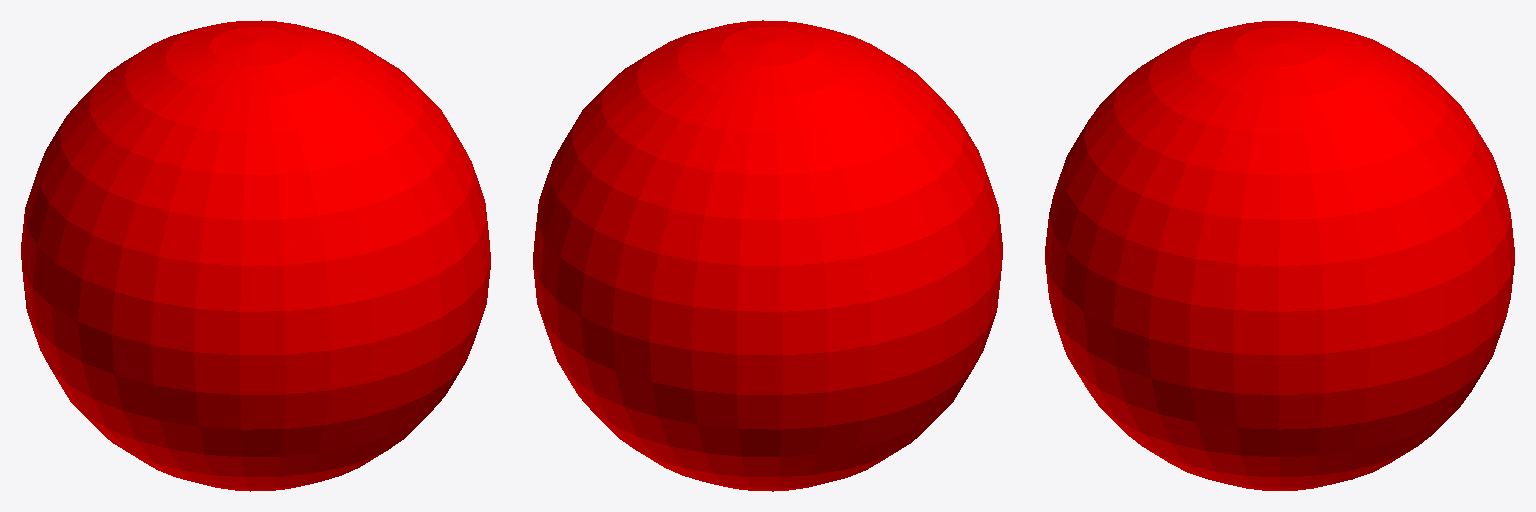
robot.urdf — kbot-v2:
<?xml version="1.0" ?>
<robot name="kbot-v2">
  <link name="floating_base_link">
    <visual name="floating_base_link_visual">
      <geometry name="floating_base_link_geometry">
        <sphere radius="0.01"/>
      </geometry>
      <material name="floating_base_link_material">
        <color rgba="1 0 0 1"/>
      </material>
      <origin xyz="0 0 0" rpy="0.00 0.00 4.71"/>
    </visual>
    <inertial name="floating_base_link_inertial">
      <mass value="0.001"/>
      <inertia ixx="0.000001" iyy="0.000001" izz="0.000002" ixy="0" ixz="0" iyz="0"/>
      <origin xyz="0 0 0" rpy="0.00 0.00 4.71"/>
    </inertial>
  </link>
  <joint name="floating_base_joint" type="fixed">
    <parent link="floating_base_link"/>
    <child link="KB_B_102B_TORSO_BOTTOM"/>
    <origin xyz="0 0 0" rpy="0.00 0.00 4.71"/>
  </joint>
  <joint name="right_shoulder_pitch_03" type="revolute">
    <origin xyz="0.120950 -0.000737 0.337507" rpy="-1.570796 0 1.570796"/>
    <parent link="KB_B_102B_TORSO_BOTTOM"/>
    <child link="YOKE_STOP_INNER"/>
    <limit effort="60" velocity="6.283" lower="-2.617994" upper="2.094395"/>
    <axis xyz="0 0 1"/>
  </joint>
  <joint name="left_shoulder_pitch_03" type="revolute">
    <origin xyz="-0.120950 -0.000737 0.337507" rpy="1.570796 0 1.570796"/>
    <parent link="KB_B_102B_TORSO_BOTTOM"/>
    <child link="YOKE_STOP_INNER_2"/>
    <limit effort="60" velocity="6.283" lower="-2.094395" upper="2.617994"/>
    <axis xyz="0 0 1"/>
  </joint>
  <joint name="right_hip_pitch_04" type="revolute">
    <origin xyz="0.056000 -0.000737 -0.072993" rpy="1.570796 0 -1.570796"/>
    <parent link="KB_B_102B_TORSO_BOTTOM"/>
    <child link="KB_D_102R_R_Hip_Yoke_Drive"/>
    <limit effort="120" velocity="6.283" lower="-1.919862" upper="1.570796"/>
    <axis xyz="0 0 1"/>
  </joint>
  <joint name="left_hip_pitch_04" type="revolute">
    <origin xyz="-0.056000 -0.000737 -0.072993" rpy="-1.570796 0 -1.570796"/>
    <parent link="KB_B_102B_TORSO_BOTTOM"/>
    <child link="KB_D_102L_L_Hip_Yoke_Drive"/>
    <limit effort="120" velocity="6.283" lower="-1.570796" upper="1.919862"/>
    <axis xyz="0 0 1"/>
  </joint>
  <joint name="right_hip_roll_03" type="revolute">
    <origin xyz="-0.028250 -0.030000 -0.071000" rpy="0 -1.570796 0"/>
    <parent link="KB_D_102R_R_Hip_Yoke_Drive"/>
    <child link="RS03_3"/>
    <limit effort="60" velocity="6.283" lower="0" upper="2.268928"/>
    <axis xyz="0 0 -1.0"/>
  </joint>
  <joint name="left_hip_roll_03" type="revolute">
    <origin xyz="-0.028250 0.030000 -0.071000" rpy="3.141593 1.570796 0"/>
    <parent link="KB_D_102L_L_Hip_Yoke_Drive"/>
    <child link="RS03_4"/>
    <limit effort="60" velocity="6.283" lower="-2.268928" upper="0"/>
    <axis xyz="0 0 -1.0"/>
  </joint>
  <joint name="imu_link" type="fixed">
    <origin xyz="-0.028807 -0.009800 0.452404" rpy="0 -1.570796 0"/>
    <parent link="KB_B_102B_TORSO_BOTTOM"/>
    <child link="imu"/>
  </joint>
  <joint name="right_shoulder_roll_03" type="revolute">
    <origin xyz="0.024250 0 -0.080000" rpy="-3.141593 -1.570796 0"/>
    <parent link="YOKE_STOP_INNER"/>
    <child link="RS03_5"/>
    <limit effort="60" velocity="6.283" lower="-0.488692" upper="1.658063"/>
    <axis xyz="0 0 -1.0"/>
  </joint>
  <joint name="left_shoulder_roll_03" type="revolute">
    <origin xyz="0.024250 0 -0.080000" rpy="0 1.570796 0"/>
    <parent link="YOKE_STOP_INNER_2"/>
    <child link="RS03_6"/>
    <limit effort="60" velocity="6.283" lower="-1.658063" upper="0.488692"/>
    <axis xyz="0 0 -1.0"/>
  </joint>
  <joint name="right_hip_yaw_03" type="revolute">
    <origin xyz="0 -0.142750 -0.029800" rpy="1.570796 0 0"/>
    <parent link="RS03_3"/>
    <child link="KB_D_301R_R_Femur_Lower_Drive"/>
    <limit effort="60" velocity="6.283" lower="-1.570796" upper="1.570796"/>
    <axis xyz="0 0 -1"/>
  </joint>
  <joint name="right_shoulder_yaw_02" type="revolute">
    <origin xyz="-0.013000 -0.142000 -0.030250" rpy="-1.570796 0 0"/>
    <parent link="RS03_5"/>
    <child link="R_Bicep_Lower_Drive"/>
    <limit effort="17" velocity="12.566" lower="-1.745329" upper="1.745329"/>
    <axis xyz="0 0 1"/>
  </joint>
  <joint name="left_hip_yaw_03" type="revolute">
    <origin xyz="0 -0.142750 -0.029800" rpy="1.570796 0 0"/>
    <parent link="RS03_4"/>
    <child link="KB_D_301L_L_Femur_Lower_Drive"/>
    <limit effort="60" velocity="6.283" lower="-1.570796" upper="1.570796"/>
    <axis xyz="0 0 -1"/>
  </joint>
  <joint name="left_shoulder_yaw_02" type="revolute">
    <origin xyz="0.013000 -0.142000 -0.030250" rpy="-1.570796 0 0"/>
    <parent link="RS03_6"/>
    <child link="L_Bicep_Lower_Drive"/>
    <limit effort="17" velocity="12.566" lower="-1.745329" upper="1.745329"/>
    <axis xyz="0 0 1"/>
  </joint>
  <joint name="right_knee_04" type="revolute">
    <origin xyz="0.020600 -0.021000 0.212000" rpy="1.570796 0 -1.570796"/>
    <parent link="KB_D_301R_R_Femur_Lower_Drive"/>
    <child link="KB_D_401R_R_Shin_Drive"/>
    <limit effort="120" velocity="6.283" lower="-2.705260" upper="0"/>
    <axis xyz="0 0 1"/>
  </joint>
  <joint name="right_elbow_02" type="revolute">
    <origin xyz="0.018500 -0.010000 -0.137000" rpy="-1.570796 0 1.570796"/>
    <parent link="R_Bicep_Lower_Drive"/>
    <child link="R_Forearm_Upper_Structural"/>
    <limit effort="17" velocity="12.566" lower="0" upper="2.530727"/>
    <axis xyz="0 0 1"/>
  </joint>
  <joint name="left_knee_04" type="revolute">
    <origin xyz="0.043200 -0.021000 0.212000" rpy="-1.570796 0 -1.570796"/>
    <parent link="KB_D_301L_L_Femur_Lower_Drive"/>
    <child link="KB_D_402L_L_Shin_Idle"/>
    <limit effort="120" velocity="6.283" lower="0" upper="2.705260"/>
    <axis xyz="0 0 1.0"/>
  </joint>
  <joint name="right_wrist_02" type="revolute">
    <origin xyz="0.017350 0.107700 0.018000" rpy="1.570796 1.570796 0"/>
    <parent link="R_Forearm_Upper_Structural"/>
    <child link="KB_C_501X_Bayonet_Adapter_Hard_Stop"/>
    <limit effort="17" velocity="12.566" lower="-1.745329" upper="1.745329"/>
    <axis xyz="0 0 1"/>
  </joint>
  <joint name="left_elbow_02" type="revolute">
    <origin xyz="-0.018500 -0.010000 -0.137000" rpy="1.570796 0 1.570796"/>
    <parent link="L_Bicep_Lower_Drive"/>
    <child link="L_Forearm_Upper_Drive"/>
    <limit effort="17" velocity="12.566" lower="-2.530727" upper="0"/>
    <axis xyz="0 0 1"/>
  </joint>
  <joint name="right_ankle_02" type="revolute">
    <origin xyz="-0.031300 0.292500 0.034000" rpy="0 0 0"/>
    <parent link="KB_D_401R_R_Shin_Drive"/>
    <child link="KB_D_501R_R_LEG_FOOT"/>
    <limit effort="17" velocity="12.566" lower="-0.296706" upper="0.785398"/>
    <axis xyz="0 0 1"/>
  </joint>
  <joint name="left_ankle_02" type="revolute">
    <origin xyz="-0.031300 -0.292500 -0.057200" rpy="0 0 0"/>
    <parent link="KB_D_402L_L_Shin_Idle"/>
    <child link="KB_D_501L_L_LEG_FOOT"/>
    <limit effort="17" velocity="12.566" lower="-0.785398" upper="0.296706"/>
    <axis xyz="0 0 1.0"/>
  </joint>
  <joint name="left_wrist_02" type="revolute">
    <origin xyz="0.017350 -0.106500 0.018000" rpy="1.570796 -1.570796 0"/>
    <parent link="L_Forearm_Upper_Drive"/>
    <child link="KB_C_501X_Bayonet_Adapter_Hard_Stop_2"/>
    <limit effort="17" velocity="12.566" lower="-1.745329" upper="1.745329"/>
    <axis xyz="0 0 -1"/>
  </joint>
  <link name="KB_B_102B_TORSO_BOTTOM">
    <visual name="KB_B_102B_TORSO_BOTTOM_visual">
      <origin xyz="0 0 0" rpy="0 0 0"/>
      <geometry name="KB_B_102B_TORSO_BOTTOM_geometry">
        <mesh filename="meshes/KB_B_102B_TORSO_BOTTOM.stl"/>
      </geometry>
      <material name="KB_B_102B_TORSO_BOTTOM_material">
        <color rgba="0.615686 0.811765 0.929412 1"/>
      </material>
    </visual>
    <inertial name="KB_B_102B_TORSO_BOTTOM_inertial">
      <mass value="15.673149"/>
      <inertia ixx="0.641650" iyy="0.678247" izz="0.075462" ixy="-0.000140" ixz="-0.001514" iyz="-0.014715"/>
      <origin xyz="0.000403 0.002187 0.165184" rpy="0 0 0"/>
    </inertial>
  </link>
  <link name="YOKE_STOP_INNER">
    <visual name="YOKE_STOP_INNER_visual">
      <origin xyz="0 0 0" rpy="0 0 0"/>
      <geometry name="YOKE_STOP_INNER_geometry">
        <mesh filename="meshes/YOKE_STOP_INNER.stl"/>
      </geometry>
      <material name="YOKE_STOP_INNER_material">
        <color rgba="0.231373 0.380392 0.705882 1"/>
      </material>
    </visual>
    <inertial name="YOKE_STOP_INNER_inertial">
      <mass value="0.585630"/>
      <inertia ixx="0.001005" iyy="0.001376" izz="0.001140" ixy="-0.000021" ixz="0.000099" iyz="0.000039"/>
      <origin xyz="0.006667 -0.003840 -0.041983" rpy="0 0 0"/>
    </inertial>
  </link>
  <link name="YOKE_STOP_INNER_2">
    <visual name="YOKE_STOP_INNER_visual_2">
      <origin xyz="0 0 0" rpy="0 0 0"/>
      <geometry name="YOKE_STOP_INNER_geometry_2">
        <mesh filename="meshes/YOKE_STOP_INNER_2.stl"/>
      </geometry>
      <material name="YOKE_STOP_INNER_material_2">
        <color rgba="0.231373 0.380392 0.705882 1"/>
      </material>
    </visual>
    <inertial name="YOKE_STOP_INNER_inertial_2">
      <mass value="0.585652"/>
      <inertia ixx="0.001005" iyy="0.001370" izz="0.001134" ixy="0.000021" ixz="0.000101" iyz="-0.000039"/>
      <origin xyz="0.006762 0.003839 -0.041982" rpy="0 0 0"/>
    </inertial>
  </link>
  <link name="KB_D_102R_R_Hip_Yoke_Drive">
    <visual name="KB_D_102R_R_Hip_Yoke_Drive_visual">
      <origin xyz="0 0 0" rpy="0 0 0"/>
      <geometry name="KB_D_102R_R_Hip_Yoke_Drive_geometry">
        <mesh filename="meshes/KB_D_102R_R_Hip_Yoke_Drive.stl"/>
      </geometry>
      <material name="KB_D_102R_R_Hip_Yoke_Drive_material">
        <color rgba="0.262745 0.282353 0.301961 1"/>
      </material>
    </visual>
    <inertial name="KB_D_102R_R_Hip_Yoke_Drive_inertial">
      <mass value="0.710534"/>
      <inertia ixx="0.001285" iyy="0.001550" izz="0.001729" ixy="-0.000087" ixz="-0.000094" iyz="-0.000252"/>
      <origin xyz="-0.005187 -0.002374 -0.039157" rpy="0 0 0"/>
    </inertial>
  </link>
  <link name="KB_D_102L_L_Hip_Yoke_Drive">
    <visual name="KB_D_102L_L_Hip_Yoke_Drive_visual">
      <origin xyz="0 0 0" rpy="0 0 0"/>
      <geometry name="KB_D_102L_L_Hip_Yoke_Drive_geometry">
        <mesh filename="meshes/KB_D_102L_L_Hip_Yoke_Drive.stl"/>
      </geometry>
      <material name="KB_D_102L_L_Hip_Yoke_Drive_material">
        <color rgba="0.262745 0.282353 0.301961 1"/>
      </material>
    </visual>
    <inertial name="KB_D_102L_L_Hip_Yoke_Drive_inertial">
      <mass value="0.710534"/>
      <inertia ixx="0.001287" iyy="0.001544" izz="0.001726" ixy="0.000087" ixz="-0.000096" iyz="0.000253"/>
      <origin xyz="-0.005269 0.002433 -0.039157" rpy="0 0 0"/>
    </inertial>
  </link>
  <link name="RS03_3">
    <visual name="RS03_visual_3">
      <origin xyz="0 0 0" rpy="0 0 0"/>
      <geometry name="RS03_geometry_3">
        <mesh filename="meshes/RS03_3.stl"/>
      </geometry>
      <material name="RS03_material_3">
        <color rgba="0.615686 0.811765 0.929412 1"/>
      </material>
    </visual>
    <inertial name="RS03_inertial_3">
      <mass value="2.590316"/>
      <inertia ixx="0.011063" iyy="0.003804" izz="0.011580" ixy="-0.000058" ixz="0.000001" iyz="-0.000098"/>
      <origin xyz="-0.000677 -0.058256 -0.028289" rpy="0 0 0"/>
    </inertial>
  </link>
  <link name="RS03_4">
    <visual name="RS03_visual_4">
      <origin xyz="0 0 0" rpy="0 0 0"/>
      <geometry name="RS03_geometry_4">
        <mesh filename="meshes/RS03_4.stl"/>
      </geometry>
      <material name="RS03_material_4">
        <color rgba="0.615686 0.811765 0.929412 1"/>
      </material>
    </visual>
    <inertial name="RS03_inertial_4">
      <mass value="2.590429"/>
      <inertia ixx="0.011064" iyy="0.003804" izz="0.011580" ixy="0.000058" ixz="0" iyz="-0.000098"/>
      <origin xyz="0.000677 -0.058257 -0.028289" rpy="0 0 0"/>
    </inertial>
  </link>
  <link name="imu">
    <visual name="imu_visual">
      <origin xyz="0 0 0" rpy="0 0 0"/>
      <geometry name="imu_geometry">
        <mesh filename="meshes/imu.stl"/>
      </geometry>
      <material name="imu_material">
        <color rgba="0.615686 0.811765 0.929412 1"/>
      </material>
    </visual>
    <inertial name="imu_inertial">
      <mass value="0.005700"/>
      <inertia ixx="0.000001" iyy="0.000001" izz="0.000002" ixy="0" ixz="0" iyz="0"/>
      <origin xyz="0.012000 -0.014737 0.003000" rpy="0 0 0"/>
    </inertial>
  </link>
  <link name="RS03_5">
    <visual name="RS03_visual_5">
      <origin xyz="0 0 0" rpy="0 0 0"/>
      <geometry name="RS03_geometry_5">
        <mesh filename="meshes/RS03_5.stl"/>
      </geometry>
      <material name="RS03_material_5">
        <color rgba="0.615686 0.811765 0.929412 1"/>
      </material>
    </visual>
    <inertial name="RS03_inertial_5">
      <mass value="1.888573"/>
      <inertia ixx="0.007759" iyy="0.002169" izz="0.008277" ixy="-0.000685" ixz="-0.000014" iyz="-0.000022"/>
      <origin xyz="-0.005670 -0.043712 -0.030222" rpy="0 0 0"/>
    </inertial>
  </link>
  <link name="RS03_6">
    <visual name="RS03_visual_6">
      <origin xyz="0 0 0" rpy="0 0 0"/>
      <geometry name="RS03_geometry_6">
        <mesh filename="meshes/RS03_6.stl"/>
      </geometry>
      <material name="RS03_material_6">
        <color rgba="0.615686 0.811765 0.929412 1"/>
      </material>
    </visual>
    <inertial name="RS03_inertial_6">
      <mass value="1.888599"/>
      <inertia ixx="0.007765" iyy="0.002169" izz="0.008283" ixy="0.000686" ixz="0.000014" iyz="-0.000022"/>
      <origin xyz="0.005670 -0.043728 -0.030222" rpy="0 0 0"/>
    </inertial>
  </link>
  <link name="KB_D_301R_R_Femur_Lower_Drive">
    <visual name="KB_D_301R_R_Femur_Lower_Drive_visual">
      <origin xyz="0 0 0" rpy="0 0 0"/>
      <geometry name="KB_D_301R_R_Femur_Lower_Drive_geometry">
        <mesh filename="meshes/KB_D_301R_R_Femur_Lower_Drive.stl"/>
      </geometry>
      <material name="KB_D_301R_R_Femur_Lower_Drive_material">
        <color rgba="0.439216 0.474510 0.501961 1"/>
      </material>
    </visual>
    <inertial name="KB_D_301R_R_Femur_Lower_Drive_inertial">
      <mass value="2.556834"/>
      <inertia ixx="0.018026" iyy="0.016368" izz="0.004729" ixy="-0.000235" ixz="0.001247" iyz="0.001844"/>
      <origin xyz="0.000139 -0.010511 0.162474" rpy="0 0 0"/>
    </inertial>
  </link>
  <link name="R_Bicep_Lower_Drive">
    <visual name="R_Bicep_Lower_Drive_visual">
      <origin xyz="0 0 0" rpy="0 0 0"/>
      <geometry name="R_Bicep_Lower_Drive_geometry">
        <mesh filename="meshes/R_Bicep_Lower_Drive.stl"/>
      </geometry>
      <material name="R_Bicep_Lower_Drive_material">
        <color rgba="0.764706 0.545098 0.803922 1"/>
      </material>
    </visual>
    <inertial name="R_Bicep_Lower_Drive_inertial">
      <mass value="0.863923"/>
      <inertia ixx="0.003004" iyy="0.002789" izz="0.000894" ixy="-0.000019" ixz="-0.000191" iyz="-0.000163"/>
      <origin xyz="0.001741 -0.003128 -0.096105" rpy="0 0 0"/>
    </inertial>
  </link>
  <link name="KB_D_301L_L_Femur_Lower_Drive">
    <visual name="KB_D_301L_L_Femur_Lower_Drive_visual">
      <origin xyz="0 0 0" rpy="0 0 0"/>
      <geometry name="KB_D_301L_L_Femur_Lower_Drive_geometry">
        <mesh filename="meshes/KB_D_301L_L_Femur_Lower_Drive.stl"/>
      </geometry>
      <material name="KB_D_301L_L_Femur_Lower_Drive_material">
        <color rgba="0.439216 0.474510 0.501961 1"/>
      </material>
    </visual>
    <inertial name="KB_D_301L_L_Femur_Lower_Drive_inertial">
      <mass value="2.556767"/>
      <inertia ixx="0.018025" iyy="0.016367" izz="0.004728" ixy="0.000234" ixz="-0.001247" iyz="0.001844"/>
      <origin xyz="-0.000139 -0.010511 0.162476" rpy="0 0 0"/>
    </inertial>
  </link>
  <link name="L_Bicep_Lower_Drive">
    <visual name="L_Bicep_Lower_Drive_visual">
      <origin xyz="0 0 0" rpy="0 0 0"/>
      <geometry name="L_Bicep_Lower_Drive_geometry">
        <mesh filename="meshes/L_Bicep_Lower_Drive.stl"/>
      </geometry>
      <material name="L_Bicep_Lower_Drive_material">
        <color rgba="0.764706 0.545098 0.803922 1"/>
      </material>
    </visual>
    <inertial name="L_Bicep_Lower_Drive_inertial">
      <mass value="0.864297"/>
      <inertia ixx="0.003004" iyy="0.002790" izz="0.000895" ixy="0.000019" ixz="0.000190" iyz="-0.000163"/>
      <origin xyz="-0.001724 -0.003123 -0.096088" rpy="0 0 0"/>
    </inertial>
  </link>
  <link name="KB_D_401R_R_Shin_Drive">
    <visual name="KB_D_401R_R_Shin_Drive_visual">
      <origin xyz="0 0 0" rpy="0 0 0"/>
      <geometry name="KB_D_401R_R_Shin_Drive_geometry">
        <mesh filename="meshes/KB_D_401R_R_Shin_Drive.stl"/>
      </geometry>
      <material name="KB_D_401R_R_Shin_Drive_material">
        <color rgba="0.349020 0.376471 0.400000 1"/>
      </material>
    </visual>
    <inertial name="KB_D_401R_R_Shin_Drive_inertial">
      <mass value="2.016717"/>
      <inertia ixx="0.017602" iyy="0.003759" izz="0.017275" ixy="0.000538" ixz="-0.000046" iyz="-0.000380"/>
      <origin xyz="-0.026847 0.095560 0.020795" rpy="0 0 0"/>
    </inertial>
  </link>
  <link name="R_Forearm_Upper_Structural">
    <visual name="R_Forearm_Upper_Structural_visual">
      <origin xyz="0 0 0" rpy="0 0 0"/>
      <geometry name="R_Forearm_Upper_Structural_geometry">
        <mesh filename="meshes/R_Forearm_Upper_Structural.stl"/>
      </geometry>
      <material name="R_Forearm_Upper_Structural_material">
        <color rgba="0.615686 0.811765 0.929412 1"/>
      </material>
    </visual>
    <inertial name="R_Forearm_Upper_Structural_inertial">
      <mass value="0.676940"/>
      <inertia ixx="0.001393" iyy="0.000690" izz="0.001383" ixy="-0.000048" ixz="-0.000016" iyz="-0.000074"/>
      <origin xyz="0.016090 0.059049 0.014470" rpy="0 0 0"/>
    </inertial>
  </link>
  <link name="KB_D_402L_L_Shin_Idle">
    <visual name="KB_D_402L_L_Shin_Idle_visual">
      <origin xyz="0 0 0" rpy="0 0 0"/>
      <geometry name="KB_D_402L_L_Shin_Idle_geometry">
        <mesh filename="meshes/KB_D_402L_L_Shin_Idle.stl"/>
      </geometry>
      <material name="KB_D_402L_L_Shin_Idle_material">
        <color rgba="0.349020 0.376471 0.400000 1"/>
      </material>
    </visual>
    <inertial name="KB_D_402L_L_Shin_Idle_inertial">
      <mass value="2.016574"/>
      <inertia ixx="0.017575" iyy="0.003732" izz="0.017275" ixy="-0.000538" ixz="-0.000046" iyz="0.000373"/>
      <origin xyz="-0.026848 -0.095563 -0.042713" rpy="0 0 0"/>
    </inertial>
  </link>
  <link name="KB_C_501X_Bayonet_Adapter_Hard_Stop">
    <visual name="KB_C_501X_Bayonet_Adapter_Hard_Stop_visual">
      <origin xyz="0 0 0" rpy="0 0 0"/>
      <geometry name="KB_C_501X_Bayonet_Adapter_Hard_Stop_geometry">
        <mesh filename="meshes/KB_C_501X_Bayonet_Adapter_Hard_Stop.stl"/>
      </geometry>
      <material name="KB_C_501X_Bayonet_Adapter_Hard_Stop_material">
        <color rgba="0.917647 0.917647 0.917647 1"/>
      </material>
    </visual>
    <inertial name="KB_C_501X_Bayonet_Adapter_Hard_Stop_inertial">
      <mass value="0.571799"/>
      <inertia ixx="0.000750" iyy="0.000720" izz="0.000581" ixy="0" ixz="-0.000012" iyz="0"/>
      <origin xyz="-0.002571 0.000004 -0.039371" rpy="0 0 0"/>
    </inertial>
  </link>
  <link name="L_Forearm_Upper_Drive">
    <visual name="L_Forearm_Upper_Drive_visual">
      <origin xyz="0 0 0" rpy="0 0 0"/>
      <geometry name="L_Forearm_Upper_Drive_geometry">
        <mesh filename="meshes/L_Forearm_Upper_Drive.stl"/>
      </geometry>
      <material name="L_Forearm_Upper_Drive_material">
        <color rgba="0.615686 0.811765 0.929412 1"/>
      </material>
    </visual>
    <inertial name="L_Forearm_Upper_Drive_inertial">
      <mass value="0.676937"/>
      <inertia ixx="0.001393" iyy="0.000690" izz="0.001383" ixy="0.000048" ixz="-0.000016" iyz="0.000074"/>
      <origin xyz="0.016089 -0.059049 0.014469" rpy="0 0 0"/>
    </inertial>
  </link>
  <link name="KB_D_501R_R_LEG_FOOT">
    <visual name="KB_D_501R_R_LEG_FOOT_visual">
      <origin xyz="0 0 0" rpy="0 0 0"/>
      <geometry name="KB_D_501R_R_LEG_FOOT_geometry">
        <mesh filename="meshes/KB_D_501R_R_LEG_FOOT.stl"/>
      </geometry>
      <material name="KB_D_501R_R_LEG_FOOT_material">
        <color rgba="0.972549 0.529412 0.003922 1"/>
      </material>
    </visual>
    <collision name="KB_D_501R_R_LEG_FOOT.collision">
      <origin xyz="0 0 0" rpy="0 0 0"/>
      <geometry name="KB_D_501R_R_LEG_FOOT_collision_geometry">
        <mesh filename="meshes/KB_D_501R_R_LEG_FOOT.collision.stl"/>
      </geometry>
    </collision>
    <inertial name="KB_D_501R_R_LEG_FOOT_inertial">
      <mass value="0.492747"/>
      <inertia ixx="0.000283" iyy="0.001560" izz="0.001485" ixy="0.000085" ixz="0.000021" iyz="-0.000018"/>
      <origin xyz="-0.013265 0.028578 -0.016056" rpy="0 0 0"/>
    </inertial>
  </link>
  <link name="KB_D_501L_L_LEG_FOOT">
    <visual name="KB_D_501L_L_LEG_FOOT_visual">
      <origin xyz="0 0 0" rpy="0 0 0"/>
      <geometry name="KB_D_501L_L_LEG_FOOT_geometry">
        <mesh filename="meshes/KB_D_501L_L_LEG_FOOT.stl"/>
      </geometry>
      <material name="KB_D_501L_L_LEG_FOOT_material">
        <color rgba="0.972549 0.529412 0.003922 1"/>
      </material>
    </visual>
    <collision name="KB_D_501L_L_LEG_FOOT.collision">
      <origin xyz="0 0 0" rpy="0 0 0"/>
      <geometry name="KB_D_501L_L_LEG_FOOT_collision_geometry">
        <mesh filename="meshes/KB_D_501L_L_LEG_FOOT.collision.stl"/>
      </geometry>
    </collision>
    <inertial name="KB_D_501L_L_LEG_FOOT_inertial">
      <mass value="0.492748"/>
      <inertia ixx="0.000283" iyy="0.001560" izz="0.001485" ixy="-0.000085" ixz="0.000021" iyz="0.000018"/>
      <origin xyz="-0.013265 -0.028578 0.011944" rpy="0 0 0"/>
    </inertial>
  </link>
  <link name="KB_C_501X_Bayonet_Adapter_Hard_Stop_2">
    <visual name="KB_C_501X_Bayonet_Adapter_Hard_Stop_visual_2">
      <origin xyz="0 0 0" rpy="0 0 0"/>
      <geometry name="KB_C_501X_Bayonet_Adapter_Hard_Stop_geometry_2">
        <mesh filename="meshes/KB_C_501X_Bayonet_Adapter_Hard_Stop_2.stl"/>
      </geometry>
      <material name="KB_C_501X_Bayonet_Adapter_Hard_Stop_material_2">
        <color rgba="0.917647 0.917647 0.917647 1"/>
      </material>
    </visual>
    <inertial name="KB_C_501X_Bayonet_Adapter_Hard_Stop_inertial_2">
      <mass value="0.571799"/>
      <inertia ixx="0.000750" iyy="0.000720" izz="0.000581" ixy="0" ixz="-0.000012" iyz="0"/>
      <origin xyz="0.002571 0.000004 0.040871" rpy="0 0 0"/>
    </inertial>
  </link>
</robot>

--- Render facts (derived) ---
3 views of the same robot in one strip: view 1: azimuth 30°, elevation 25°; view 2: azimuth 150°, elevation 25°; view 3: azimuth 270°, elevation 25° (orthographic).
Model kbot-v2 with 23 links and 22 joints (20 revolute, 2 fixed), rooted at floating_base_link, posed all joints at 0.
Visible links, largest first — view 1: floating_base_link; view 2: floating_base_link; view 3: floating_base_link.
Link boxes in pixels (bbox=[...]): floating_base_link: bbox=[21, 20, 490, 491]; floating_base_link: bbox=[533, 20, 1002, 491]; floating_base_link: bbox=[1045, 21, 1514, 490].
Bounding box of the posed robot: 0.02 × 0.02 × 0.02 m (x, y, z).
Meshes: 22 distinct files referenced, 0 mesh visuals loaded (none loaded); not drawn: 22 (file found but could not be loaded).